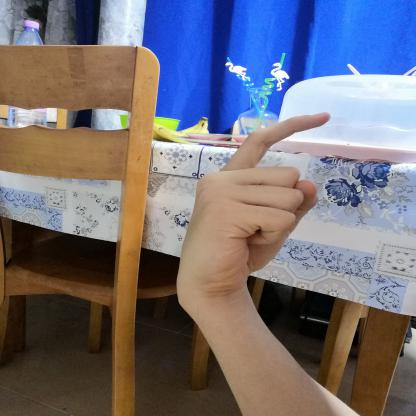RAA: (161, 100, 347, 318)
